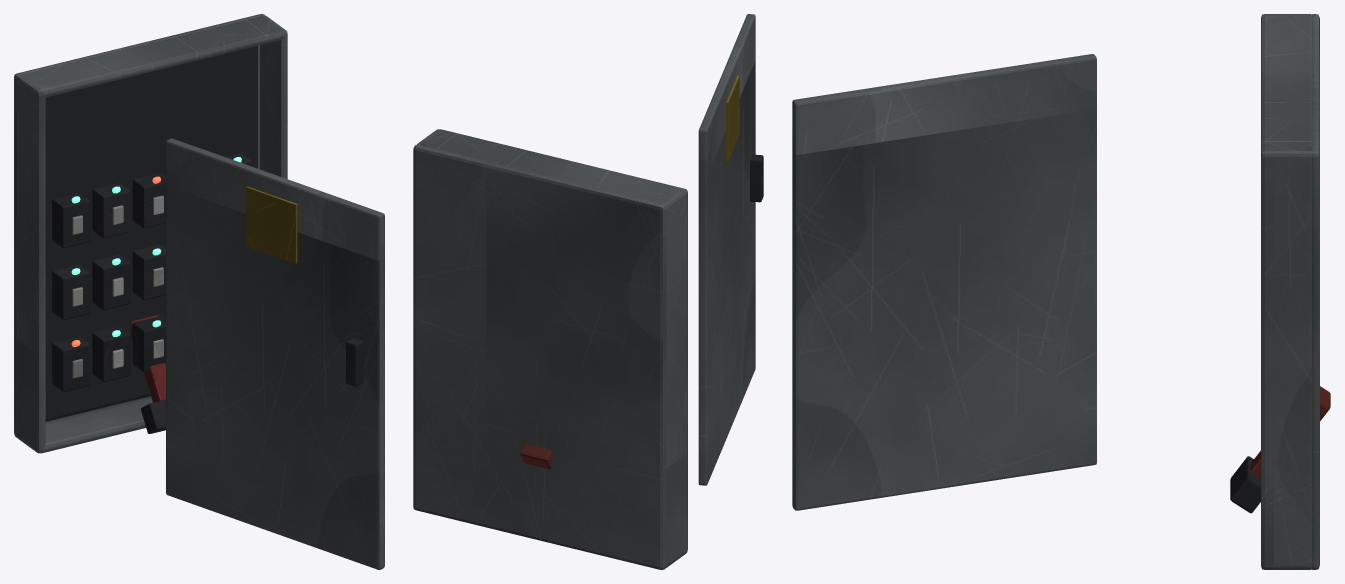
The model's file is breaker_panel.glb.
3 renders of one model, left to right at view 1: azimuth 30°, elevation 25°; view 2: azimuth 150°, elevation 25°; view 3: azimuth 270°, elevation 25°, orthographic. The views are drawn at different scales.
Parts seen in each view (by area): view 1: door, body, lever; view 2: body, door, lever; view 3: door, body, lever.
Boxes of the visible parts, <box> form: door: <box>166,138,384,569</box>; body: <box>14,14,287,453</box>; lever: <box>131,315,165,433</box>; body: <box>413,129,687,569</box>; door: <box>698,14,763,485</box>; lever: <box>520,444,551,469</box>; door: <box>792,54,1096,510</box>; body: <box>1261,14,1319,569</box>; lever: <box>1230,386,1330,513</box>.
Bounding box in the file's own units: 0.62 × 0.864 × 1.
8 materials, 5 textured.
